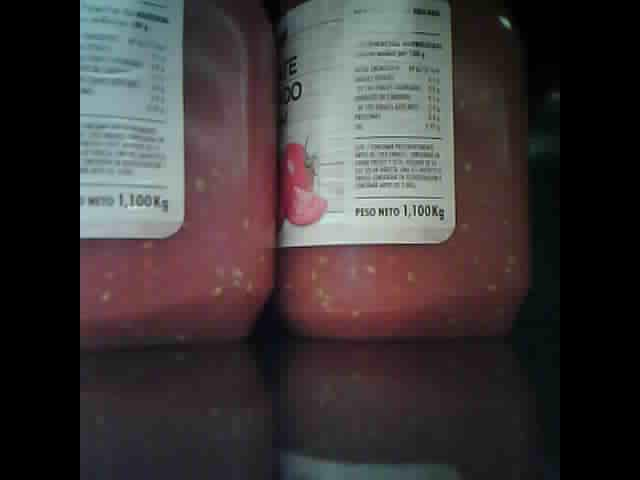tomate: (277, 4, 528, 339), (83, 5, 277, 350)
